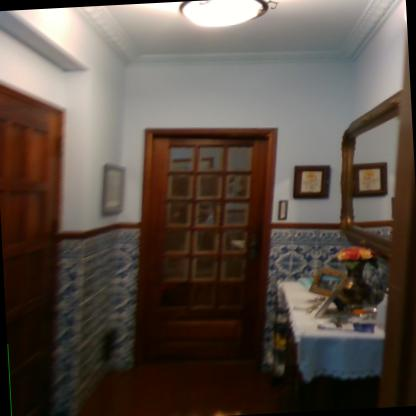closed: (118, 112, 294, 380)
